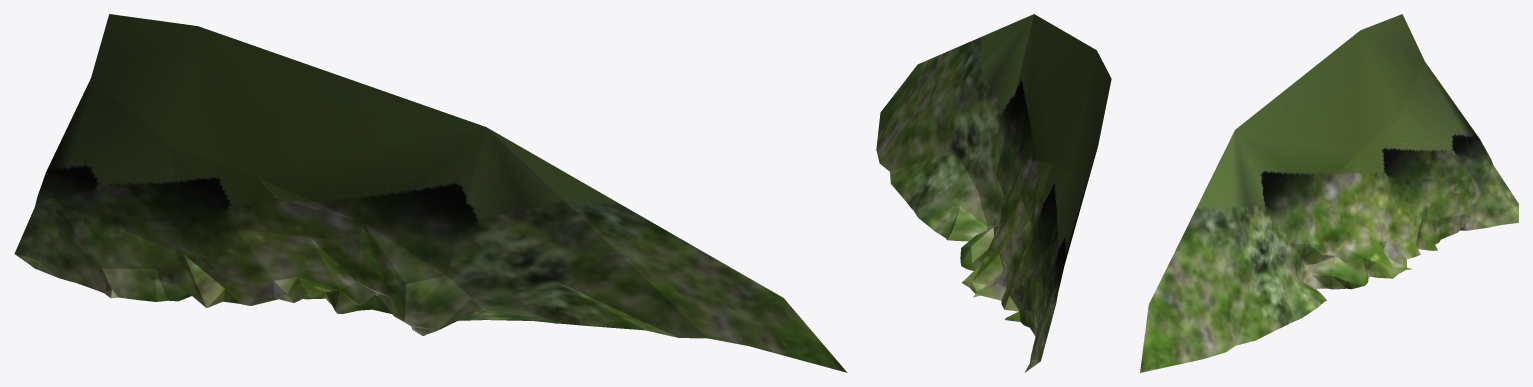
The picture shows the model from 3 angles, left to right: view 1: azimuth 30°, elevation 25°; view 2: azimuth 150°, elevation 25°; view 3: azimuth 270°, elevation 25°; orthographic projection. The views are drawn at different scales.
Bounding box in the file's own units: 19.91 × 11.98 × 20.35.
1 material, 1 textured.
